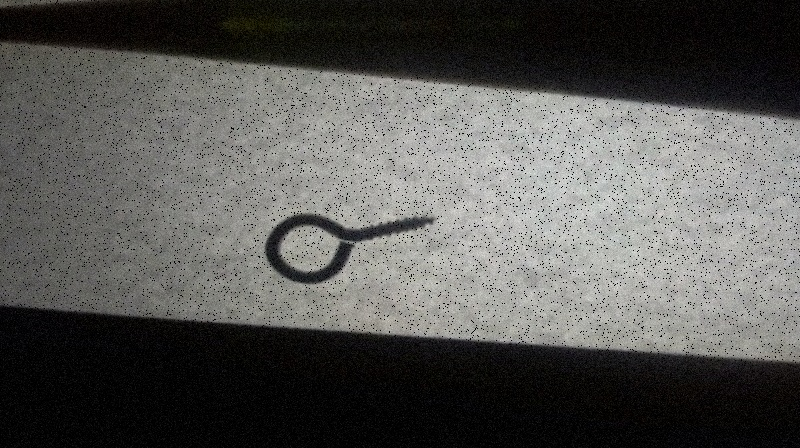O001: (261, 213, 439, 287)
